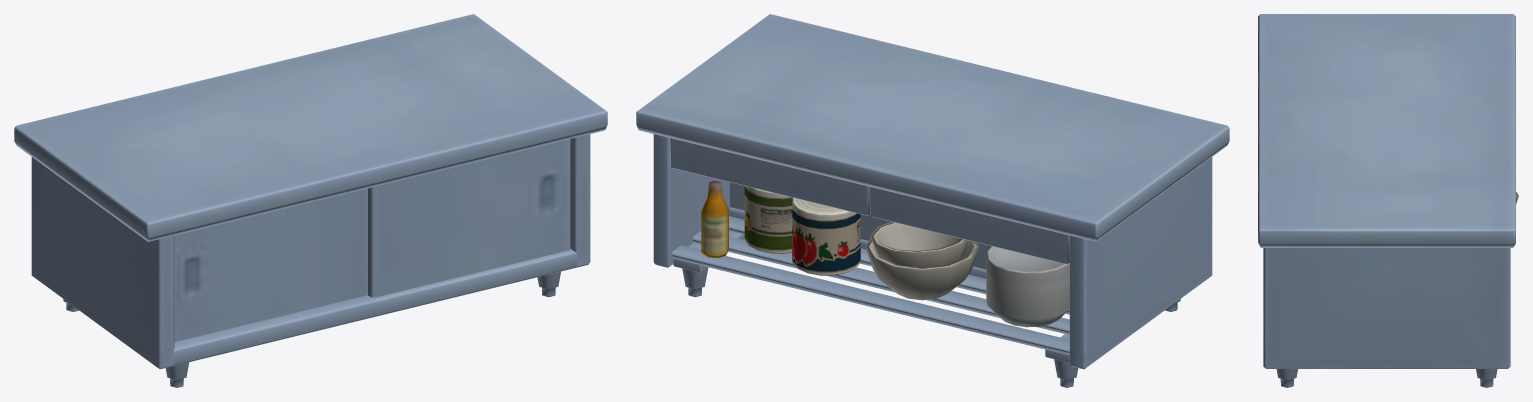
The picture shows the model from 3 angles, left to right: view 1: azimuth 30°, elevation 25°; view 2: azimuth 150°, elevation 25°; view 3: azimuth 270°, elevation 25°; orthographic projection. The views are drawn at different scales.
Size of the model in its own units: 19.21 by 7.3 by 9.77.
2 materials, 2 textured.
